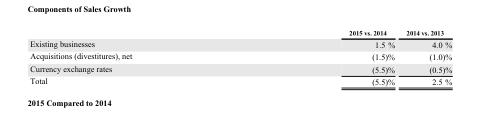table: (29, 28, 451, 85)
table column: (29, 28, 239, 85), (239, 28, 399, 85), (399, 28, 451, 85)
table column header: (29, 28, 451, 37)
table row: (29, 49, 451, 62), (29, 37, 451, 49), (29, 62, 451, 74), (29, 74, 451, 85), (29, 28, 451, 37)
